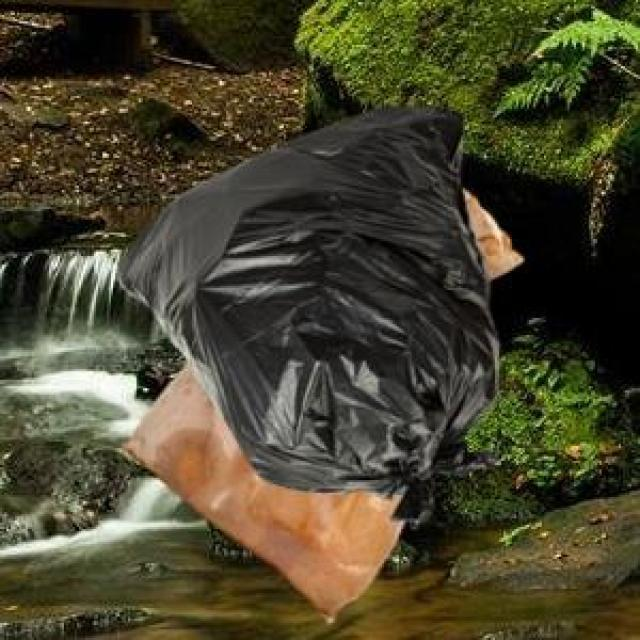miscellaneous trash: (113, 98, 495, 525)
paper: (117, 186, 518, 619)
